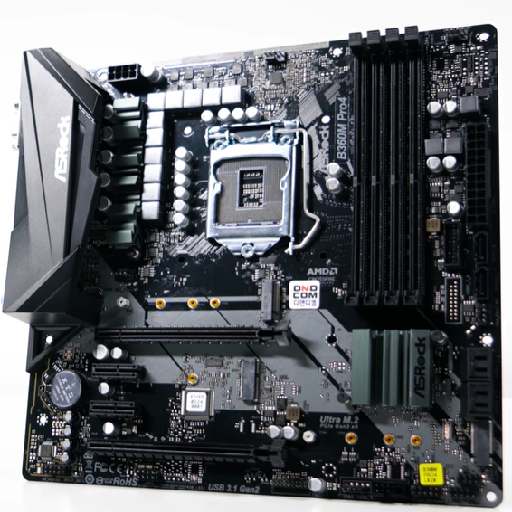CPU: (204, 119, 305, 256)
GPU: (86, 430, 289, 470), (92, 323, 292, 348)
MOTHERBOARD: (7, 20, 509, 507)
RAM: (338, 23, 439, 315)
SSD: (254, 260, 287, 323), (238, 356, 264, 406)
